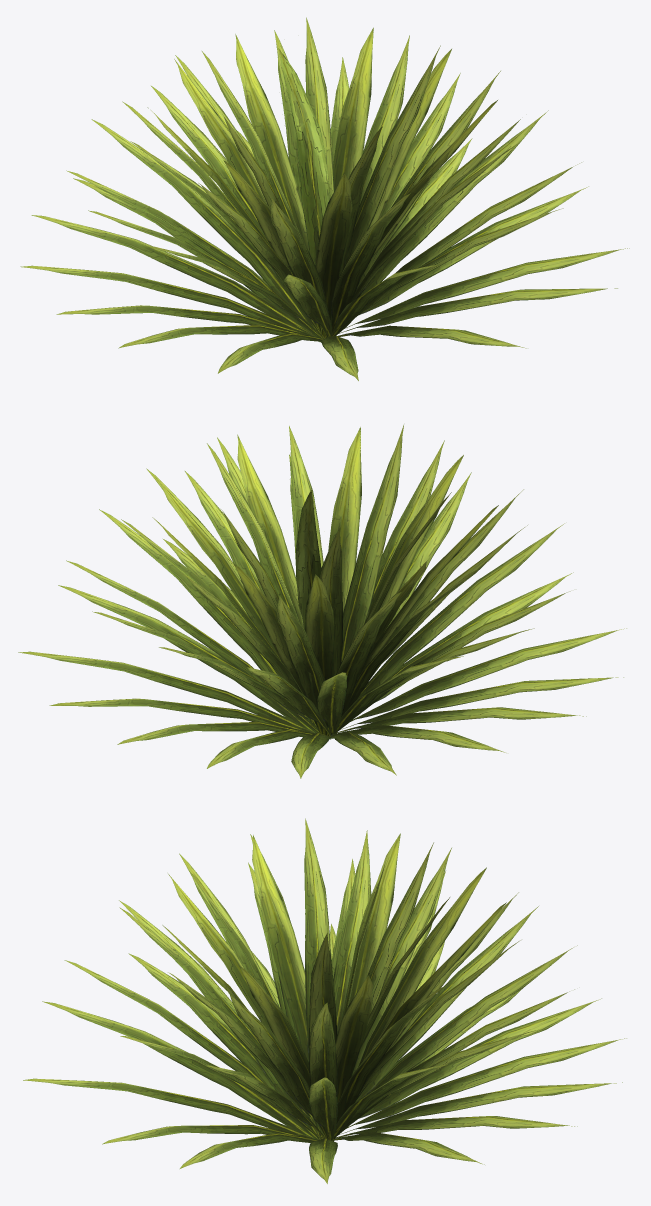
File: plant16.FBX
The picture shows the model from 3 angles, top to bottom: view 1: azimuth 30°, elevation 25°; view 2: azimuth 150°, elevation 25°; view 3: azimuth 270°, elevation 25°; orthographic projection.
Parts seen in each view (by area): view 1: plant16; view 2: plant16; view 3: plant16.
Part boxes in pixels (box(x1,y1,x2,y2)): plant16: box(20, 17, 629, 380); plant16: box(18, 425, 626, 778); plant16: box(23, 818, 626, 1183).
Bounding box in the file's own units: 3.57 × 1.81 × 3.55.
